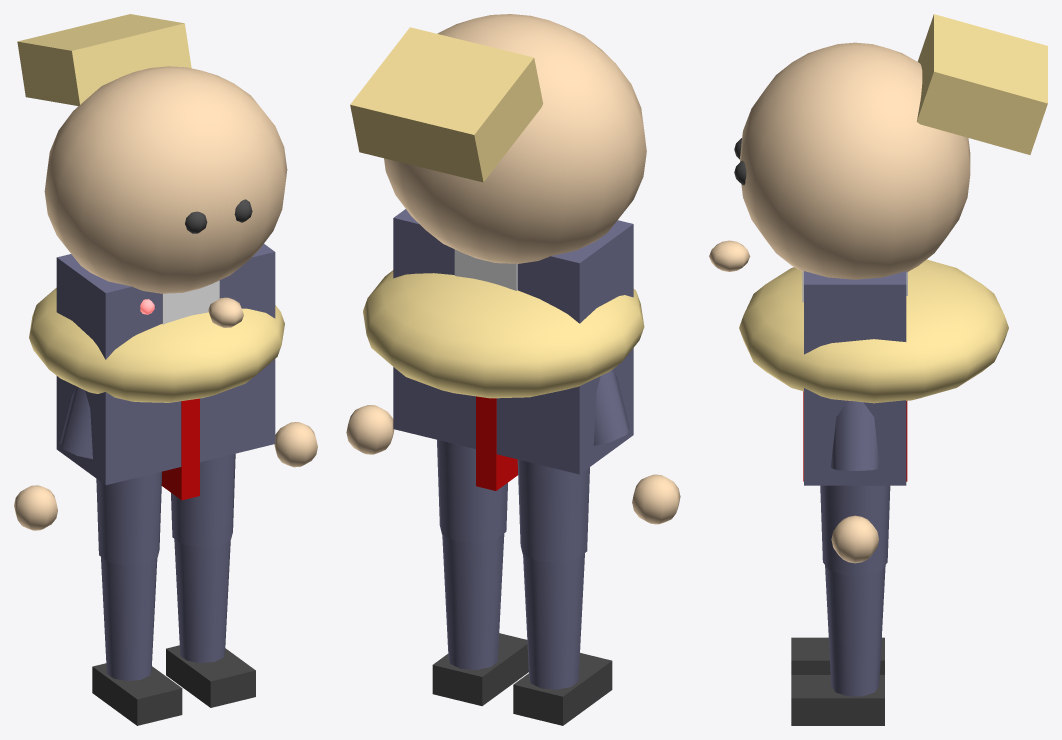
The model's file is trump.glb.
3 renders of one model, left to right at view 1: azimuth 30°, elevation 25°; view 2: azimuth 150°, elevation 25°; view 3: azimuth 270°, elevation 25°, orthographic. The views are drawn at different scales.
Visible parts, largest first — view 1: head, torso, hair-main, hair-swoop, shin-1, shin--1, thigh--1, thigh-1, shoe--1, shoe-1, tie, arm--1 (+4 smaller); view 2: head, hair-main, torso, hair-swoop, shin--1, shin-1, thigh--1, thigh-1, shoe--1, shoe-1, tie, arm--1 (+3 smaller); view 3: head, hair-main, hair-swoop, torso, shin-1, thigh-1, shoe-1, arm-1, hand-1, shoe--1, nose.
Boxes of the visible parts, left/top/right/bottom form: head: left=44, top=66, right=287, bottom=293; torso: left=56, top=244, right=275, bottom=485; hair-main: left=29, top=288, right=284, bottom=402; hair-swoop: left=17, top=14, right=191, bottom=105; shin-1: left=174, top=539, right=230, bottom=663; shin--1: left=101, top=557, right=157, bottom=680; thigh--1: left=96, top=471, right=162, bottom=565; thigh-1: left=171, top=453, right=235, bottom=547; shoe--1: left=92, top=663, right=182, bottom=725; shoe-1: left=166, top=645, right=255, bottom=707; tie: left=161, top=398, right=199, bottom=500; arm--1: left=60, top=386, right=92, bottom=458; head: left=384, top=14, right=646, bottom=263; hair-main: left=363, top=270, right=644, bottom=398; torso: left=393, top=209, right=633, bottom=474; hair-swoop: left=350, top=27, right=543, bottom=182; shin--1: left=523, top=553, right=584, bottom=689; shin-1: left=442, top=533, right=504, bottom=669; thigh--1: left=517, top=459, right=589, bottom=562; thigh-1: left=437, top=440, right=507, bottom=542; shoe--1: left=513, top=653, right=612, bottom=725; shoe-1: left=432, top=633, right=528, bottom=705; tie: left=476, top=396, right=517, bottom=490; arm--1: left=593, top=369, right=629, bottom=445; head: left=740, top=42, right=970, bottom=279; hair-main: left=739, top=259, right=1008, bottom=403; hair-swoop: left=917, top=14, right=1047, bottom=154; torso: left=804, top=271, right=906, bottom=485; shin-1: left=825, top=565, right=885, bottom=696; thigh-1: left=820, top=485, right=890, bottom=575; shoe-1: left=791, top=675, right=884, bottom=725; arm-1: left=830, top=401, right=879, bottom=470; hand-1: left=831, top=515, right=878, bottom=563; shoe--1: left=791, top=637, right=884, bottom=674; nose: left=709, top=240, right=750, bottom=271.
Size of the model in its own units: 2.12 by 4.23 by 1.99.
